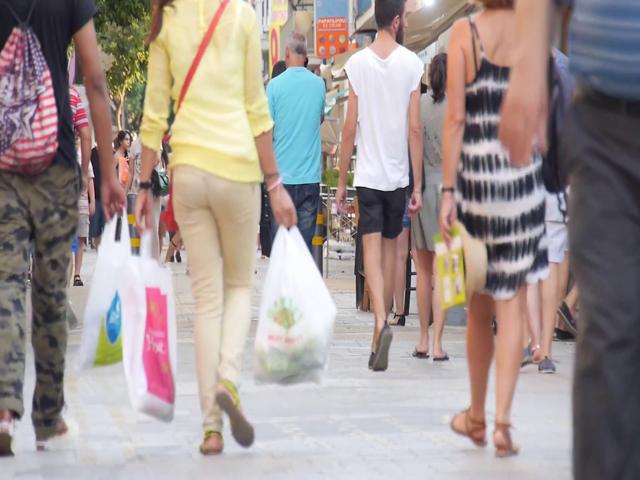shoe: (215, 380, 254, 447), (450, 407, 486, 447), (36, 419, 78, 452), (492, 423, 520, 457), (373, 326, 392, 371), (1, 411, 16, 456), (199, 432, 224, 454), (537, 357, 555, 374), (413, 342, 429, 357), (432, 350, 448, 361)
